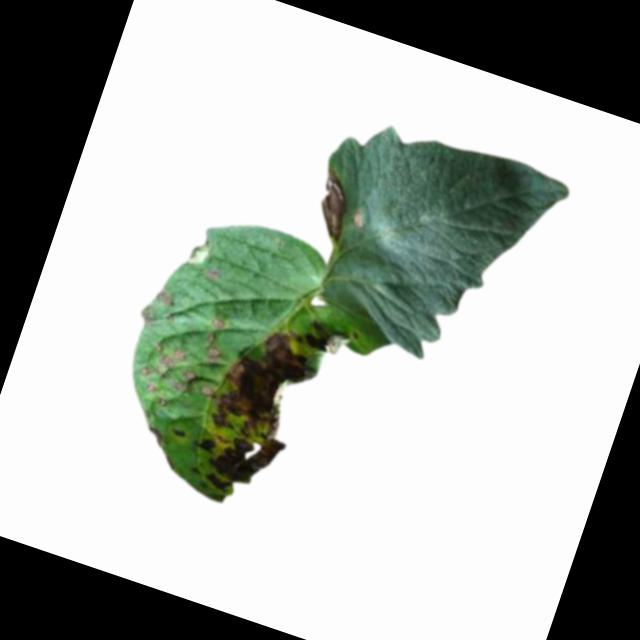Early_blight: (180, 299, 350, 514), (302, 166, 363, 246), (198, 313, 232, 367), (156, 341, 185, 371), (173, 364, 197, 397), (152, 285, 176, 307), (168, 423, 188, 439)
